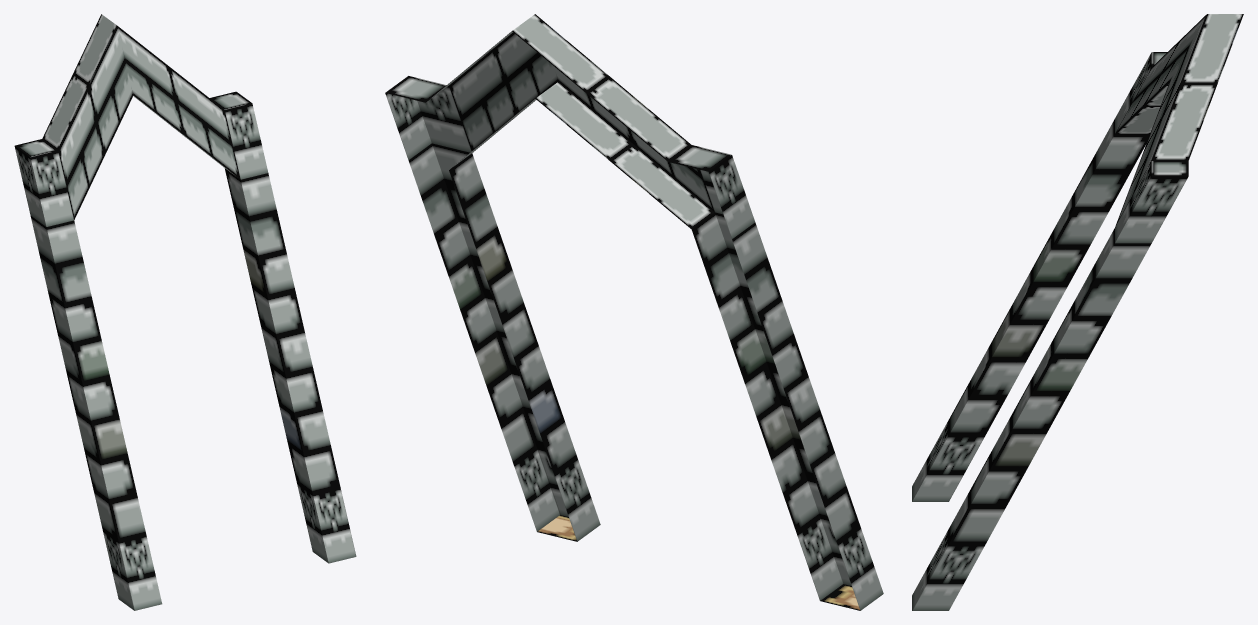
File: deco_cathedral_stoneFrame.FBX
3 renders of one model, left to right at view 1: azimuth 30°, elevation 25°; view 2: azimuth 150°, elevation 25°; view 3: azimuth 270°, elevation 25°, orthographic. The views are drawn at different scales.
Visible parts, largest first — view 1: deco_cathedral_stoneFrame; view 2: deco_cathedral_stoneFrame; view 3: deco_cathedral_stoneFrame.
Part boxes in pixels (x1,y1,x2,y2): deco_cathedral_stoneFrame: [14, 14, 356, 610]; deco_cathedral_stoneFrame: [385, 14, 883, 610]; deco_cathedral_stoneFrame: [912, 14, 1243, 610].
Bounding box in the file's own units: 2 × 4 × 2.25.
Materials: 1 (1 with a texture image).
